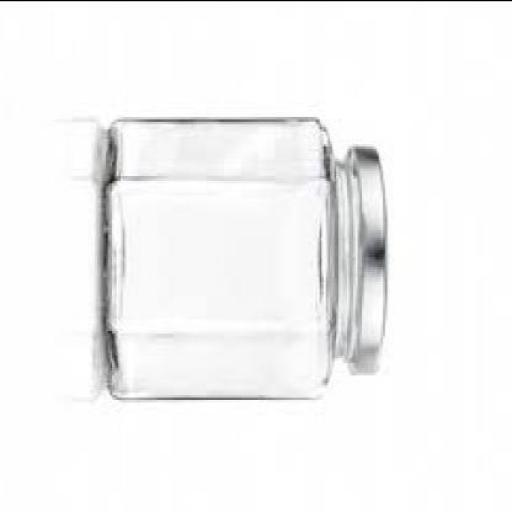glass: (102, 123, 358, 399)
metal: (347, 150, 389, 379)
